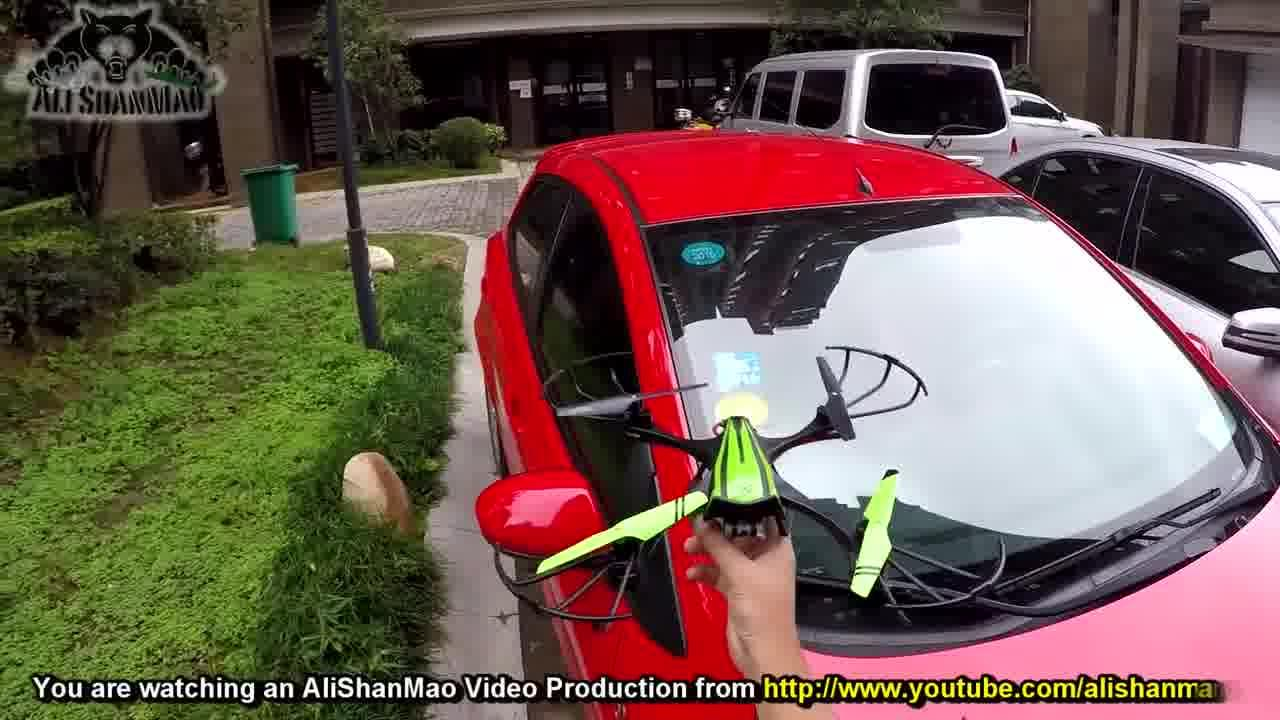drone: (532, 335, 853, 602)
